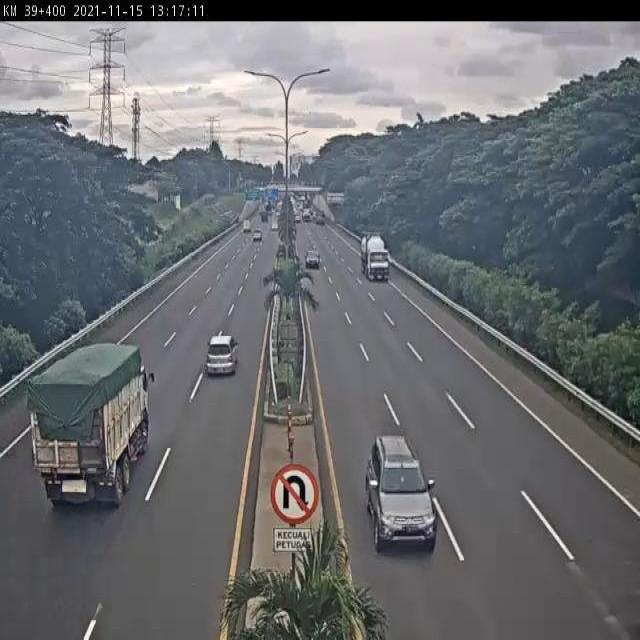car: (363, 435, 440, 553), (203, 329, 241, 379)
truck-l-: (26, 337, 153, 508)
truck-xl-: (358, 232, 392, 281)
